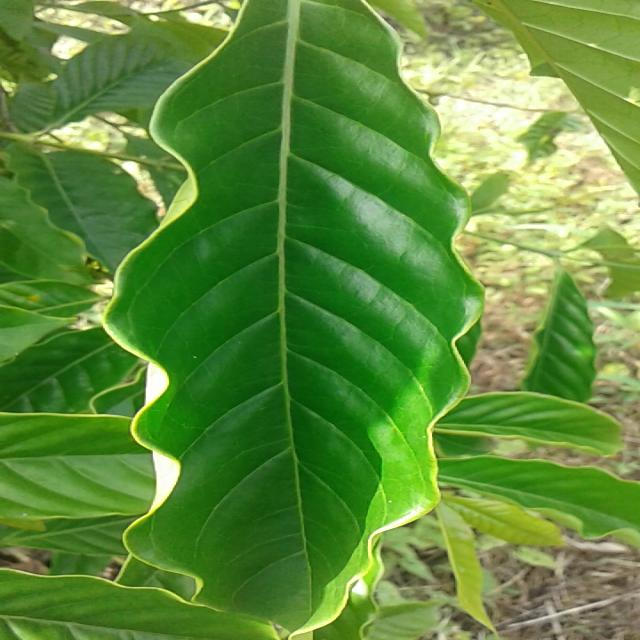Sanas: (101, 0, 485, 640)
